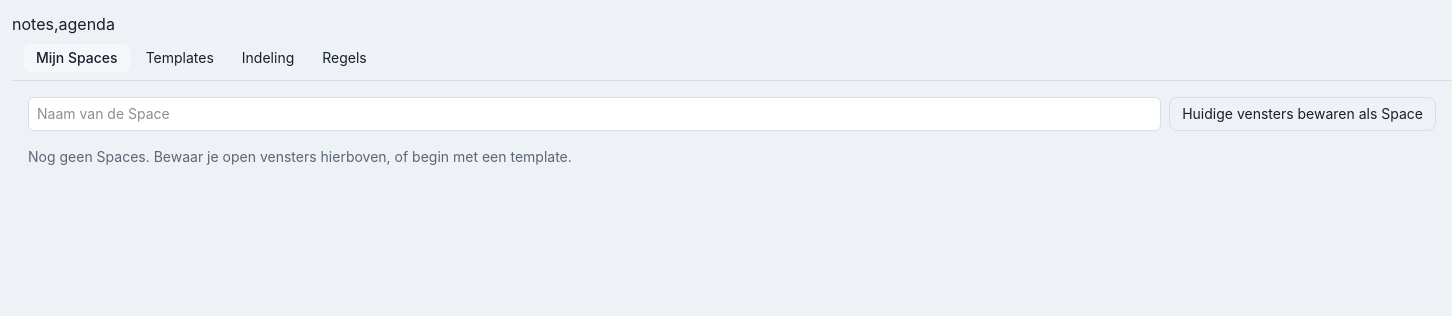
Test case: Spaces › keeps a changed layout as a draft until it is saved
Click the button "Huidige vensters bewaren als Space" at (1303, 114), box [1169,97,1436,131]
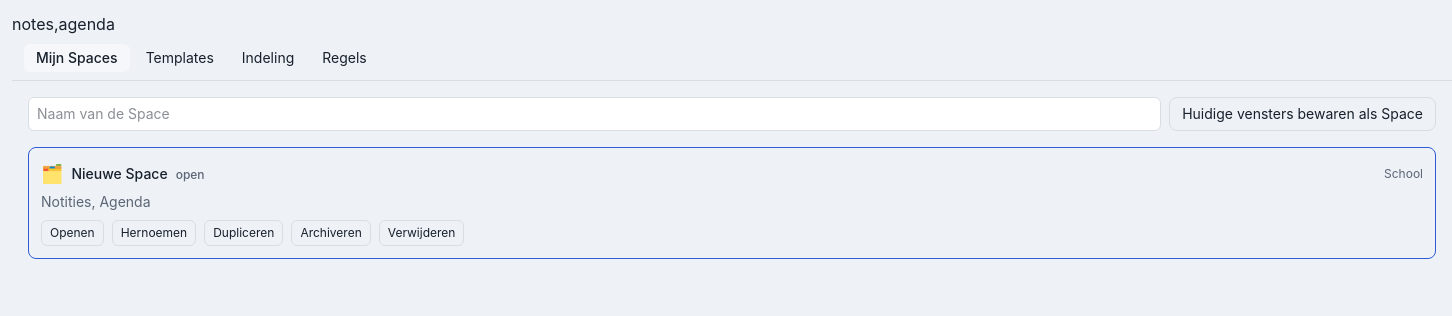
Click the tab "Indeling" at (268, 58), box [230,44,306,72]
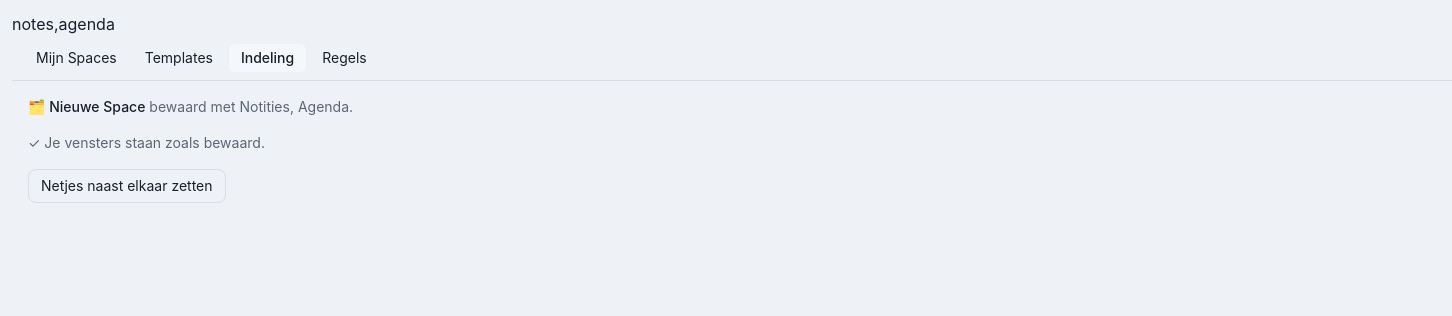
Now the text "✓ Je vensters staan zoals bewaard." is shown, box [28,134,265,151]
Click the button "Netjes naast elkaar zetten" at (127, 186), box [28,169,226,203]
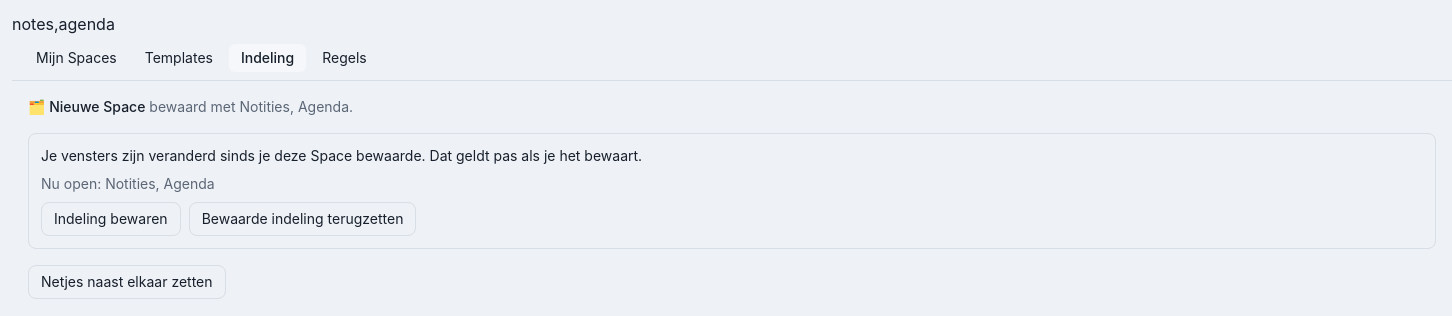
Now the text "zijn veranderd" is shown, box [41,147,642,164]
Click the button "Indeling bewaren" at (111, 219), box [41,202,181,236]
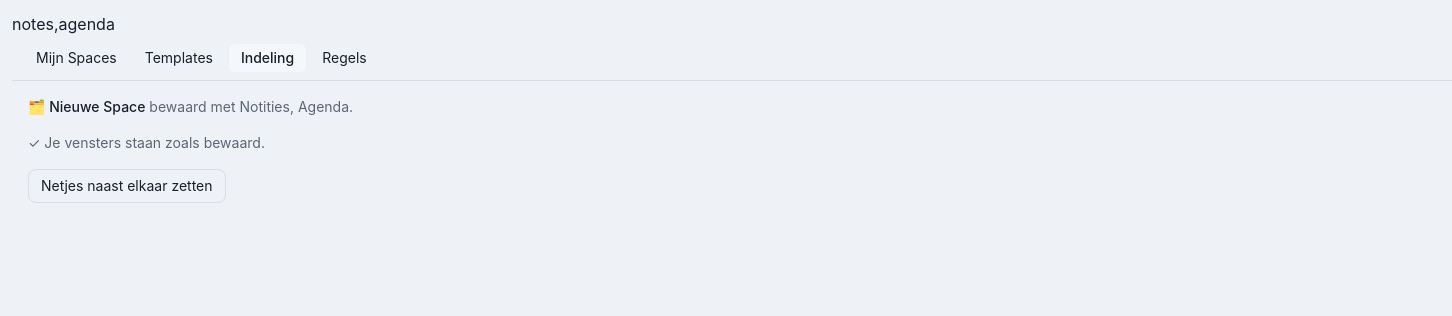
Now the text "✓ Je vensters staan zoals bewaard." is shown, box [28,134,265,151]
